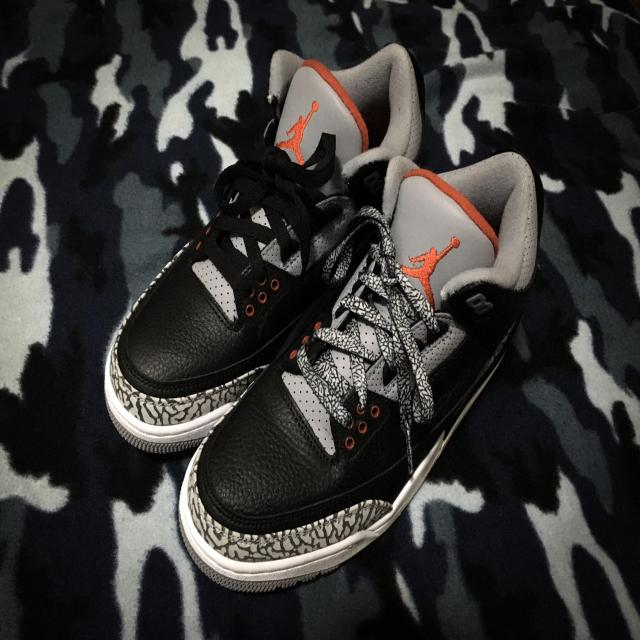shoe: (176, 156, 565, 594), (98, 44, 428, 458)
